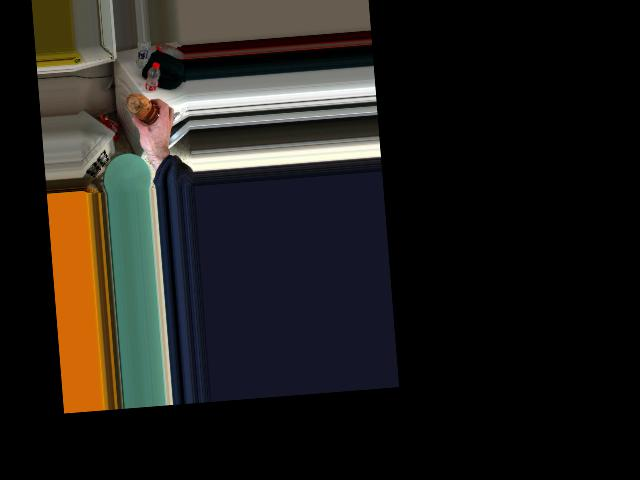sweet_potato: (127, 93, 158, 128)
